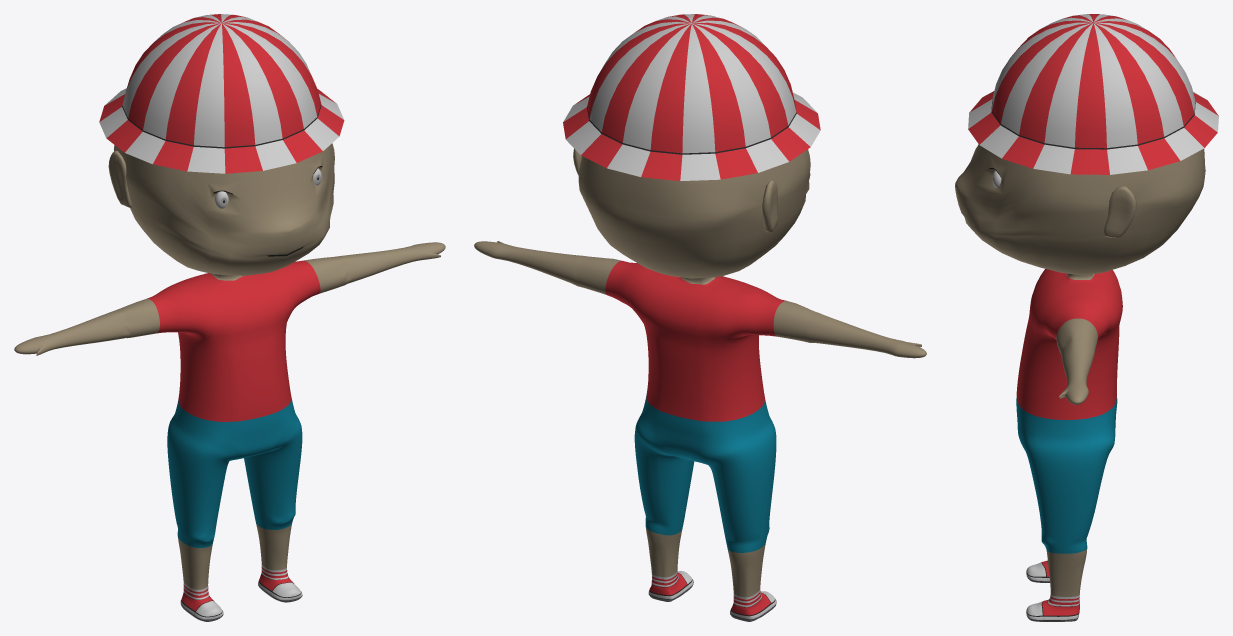
Rendered from texturedSmoothPlayer.fbx.
3 views of the same model, side by side, from view 1: azimuth 30°, elevation 25°; view 2: azimuth 150°, elevation 25°; view 3: azimuth 270°, elevation 25° (orthographic). The views are drawn at different scales.
Visible parts, largest first — view 1: pSphere6; view 2: pSphere6; view 3: pSphere6.
Part boxes in pixels (bbox=[...]): pSphere6: bbox=[14, 14, 445, 621]; pSphere6: bbox=[474, 14, 926, 621]; pSphere6: bbox=[955, 14, 1218, 621].
Bounding box in the file's own units: 263 × 331 × 138.
